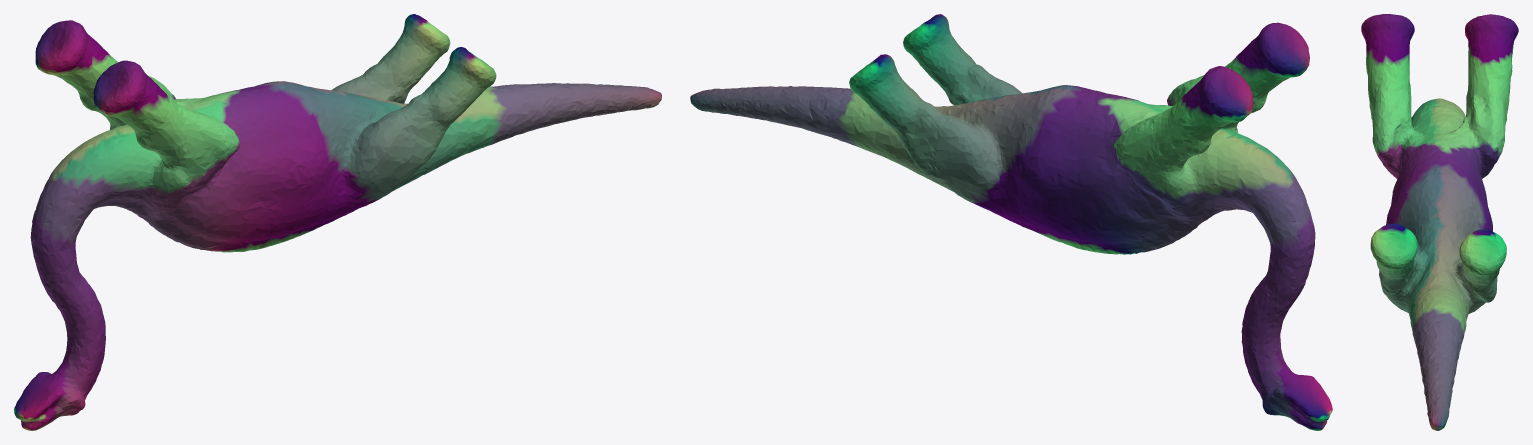
The model's file is dinosaur-12.off.obj.
3 views of the same model, side by side, from view 1: azimuth 30°, elevation 25°; view 2: azimuth 150°, elevation 25°; view 3: azimuth 270°, elevation 25° (orthographic). The views are drawn at different scales.
Size of the model in its own units: 1.41 by 0.7748 by 0.3336.
